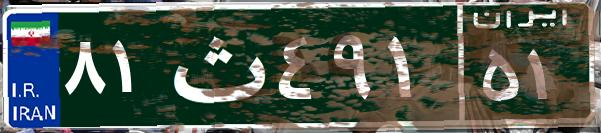1: (385, 28, 445, 110), (110, 28, 158, 105), (525, 38, 570, 115)
4: (273, 28, 330, 110)
5: (475, 38, 525, 113)
8: (57, 26, 110, 107)
9: (330, 28, 385, 110)
ث: (158, 15, 273, 115)
